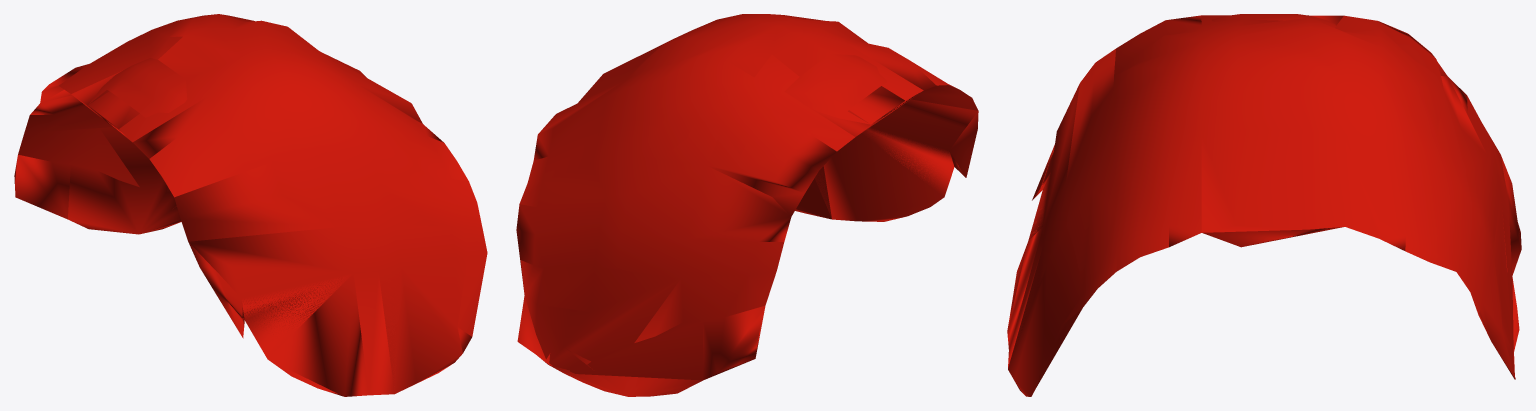
The model's file is Nao6_Left_Arm_Shoulderpad.obj.
3 views of the same model, side by side, from view 1: azimuth 30°, elevation 25°; view 2: azimuth 150°, elevation 25°; view 3: azimuth 270°, elevation 25° (orthographic). The views are drawn at different scales.
Visible parts, largest first — view 1: Nao6_Left_Arm_Shoulderpad; view 2: Nao6_Left_Arm_Shoulderpad; view 3: Nao6_Left_Arm_Shoulderpad.
Part boxes in pixels (box(x1,y1,x2,y2)): Nao6_Left_Arm_Shoulderpad: box(14, 14, 487, 396); Nao6_Left_Arm_Shoulderpad: box(516, 14, 978, 396); Nao6_Left_Arm_Shoulderpad: box(1007, 14, 1521, 396).
Size of the model in its own units: 0.4183 by 0.3769 by 0.5588.
